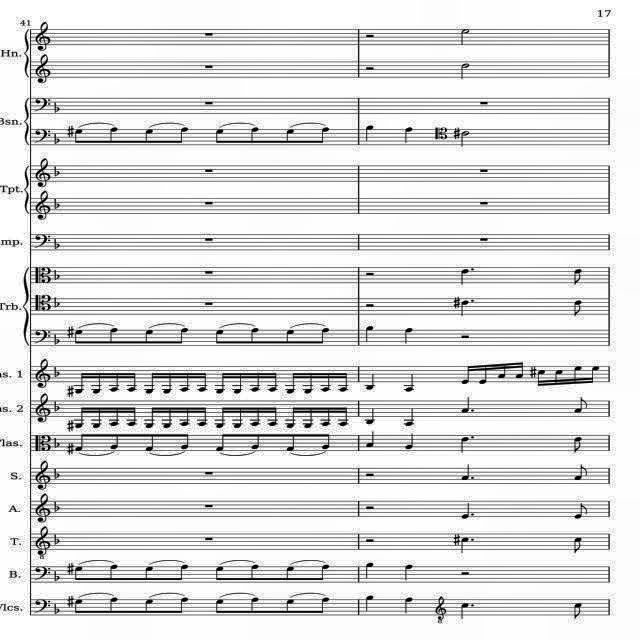Bass-clef: (34, 52, 50, 84), (36, 21, 52, 51), (34, 190, 50, 220), (34, 393, 50, 423), (35, 460, 51, 490), (34, 158, 51, 186), (35, 358, 51, 387), (36, 492, 50, 524), (36, 525, 50, 555), (436, 596, 446, 620)
Bemol: (52, 102, 60, 114), (52, 296, 60, 308), (52, 500, 59, 512), (52, 534, 59, 546), (52, 570, 59, 582), (52, 602, 59, 614), (52, 134, 60, 144), (53, 238, 61, 248), (52, 401, 59, 412), (52, 199, 59, 209), (52, 335, 59, 345), (53, 437, 59, 448), (53, 468, 59, 479), (54, 167, 60, 177), (54, 270, 60, 280), (54, 367, 60, 377)
Diez: (454, 128, 462, 140), (66, 126, 74, 138), (66, 326, 74, 338), (66, 385, 74, 397), (66, 596, 74, 608), (66, 562, 74, 574), (452, 534, 460, 546), (452, 296, 460, 308), (66, 421, 74, 432), (66, 442, 74, 453)
Eighth-note: (574, 464, 590, 480), (175, 597, 189, 613), (574, 396, 588, 412), (574, 502, 588, 518), (248, 126, 260, 144), (74, 433, 86, 451), (144, 433, 156, 451), (250, 432, 262, 450), (318, 596, 330, 614), (316, 564, 329, 580), (286, 432, 296, 452), (318, 328, 330, 344), (248, 564, 260, 580), (106, 597, 118, 613), (284, 598, 296, 614), (572, 269, 584, 285), (320, 127, 332, 143), (216, 434, 227, 451), (109, 432, 119, 450), (108, 564, 119, 580), (179, 434, 189, 451), (321, 434, 331, 451), (142, 566, 154, 580), (142, 599, 154, 613), (143, 128, 153, 144), (214, 128, 224, 144), (284, 128, 294, 144), (108, 328, 118, 344), (178, 328, 188, 344), (250, 328, 260, 344), (285, 328, 295, 344), (178, 564, 188, 580), (249, 597, 259, 613), (573, 300, 583, 316), (573, 436, 583, 452), (109, 126, 118, 142), (73, 129, 83, 143), (214, 330, 224, 344), (73, 566, 83, 580), (215, 599, 225, 613), (180, 127, 188, 143), (286, 566, 294, 582), (574, 538, 582, 554), (574, 603, 582, 619), (144, 330, 152, 344), (216, 567, 224, 581), (74, 599, 82, 613), (74, 330, 82, 342)
Half-note: (460, 63, 470, 81), (459, 28, 469, 44), (460, 132, 470, 148)
Quarter-note: (404, 372, 414, 392), (365, 372, 375, 390), (404, 431, 414, 449), (461, 396, 471, 414), (460, 464, 470, 481), (364, 562, 374, 578), (460, 538, 470, 554), (406, 407, 414, 427), (366, 124, 374, 142), (404, 126, 412, 144), (403, 597, 412, 613), (462, 502, 470, 520), (366, 407, 374, 425), (403, 328, 412, 344), (365, 596, 373, 612), (405, 564, 413, 580), (460, 604, 468, 620), (366, 431, 374, 447), (460, 438, 468, 454), (366, 326, 374, 342), (460, 300, 468, 316), (460, 269, 468, 285)
Sixteenth-note: (286, 371, 298, 394), (285, 406, 297, 429), (214, 406, 226, 429), (90, 372, 102, 394), (144, 372, 156, 394), (74, 407, 86, 429), (587, 367, 601, 385), (248, 372, 260, 392), (266, 372, 278, 392), (304, 372, 314, 396), (266, 407, 278, 427), (75, 372, 85, 394), (125, 372, 136, 392), (216, 372, 226, 394), (232, 373, 242, 395), (321, 406, 332, 426), (304, 407, 314, 429), (233, 407, 243, 429), (163, 407, 173, 429), (145, 407, 155, 429), (179, 372, 189, 392), (197, 372, 207, 392), (321, 372, 331, 392), (337, 372, 347, 392), (477, 364, 487, 384), (250, 406, 260, 426), (179, 406, 189, 426), (127, 406, 137, 426), (109, 406, 119, 426), (91, 408, 101, 428), (461, 366, 471, 384), (514, 361, 524, 379), (339, 407, 349, 425), (110, 371, 118, 393), (164, 372, 172, 394), (497, 362, 507, 378), (574, 366, 582, 386), (198, 407, 206, 425), (537, 369, 545, 386), (554, 369, 562, 386)
